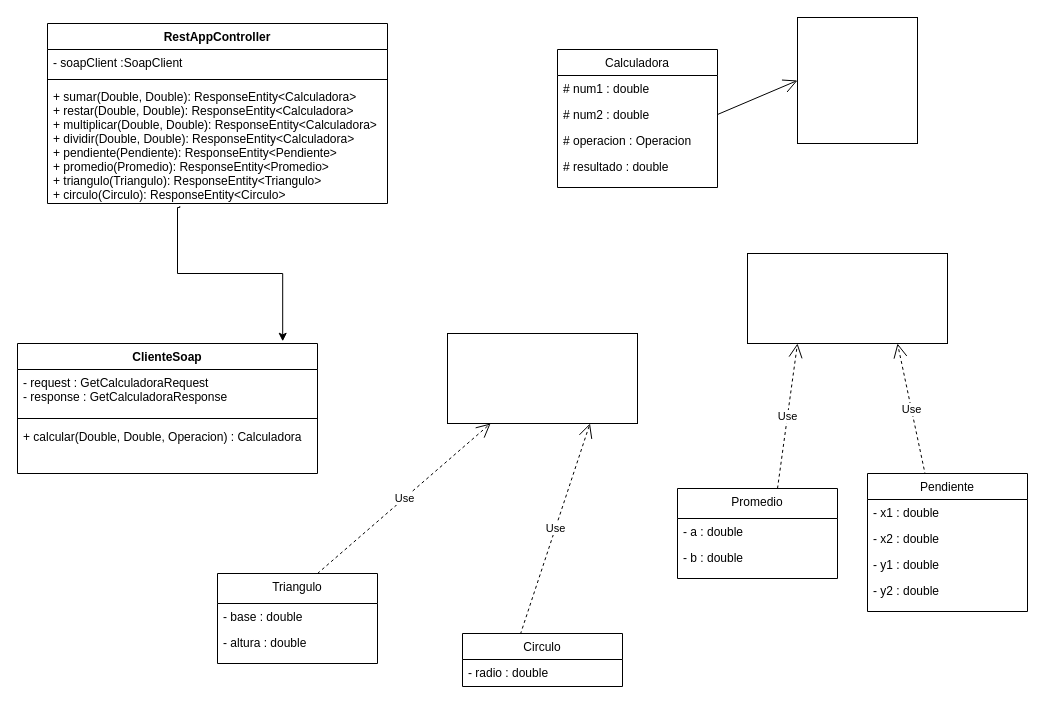
The diagram is 1045 pixels wide and 706 high, and some of its shapes have lost their labels. The shapes that lost their labels are listed below. From the top down, each one's centre as x and y in pixels, then its label:
At point (857, 80): "<<enumeration>> Operacion SUMAR RESTAR MULTILPICAR DIVIDIR".
At point (847, 298): "<<Interface>> IMedida + calcularFormula(SoapClient): void".
At point (542, 378): "<<Interface>> IFiguraGeometrica + calcularArea(SoapClient): void".
